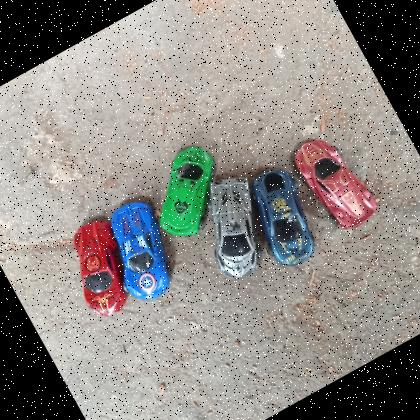Car: (180, 164, 292, 288), (133, 136, 244, 247), (90, 192, 194, 310), (284, 124, 384, 240), (236, 160, 334, 275), (52, 213, 149, 323)
